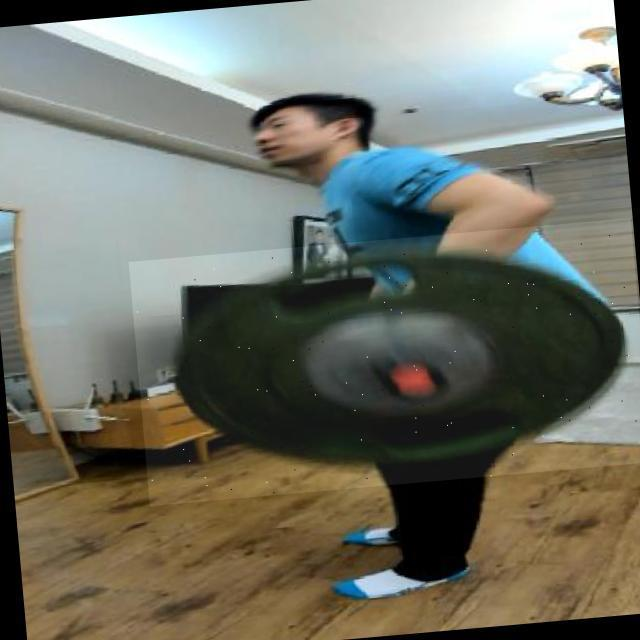barbell: (129, 218, 640, 506)
